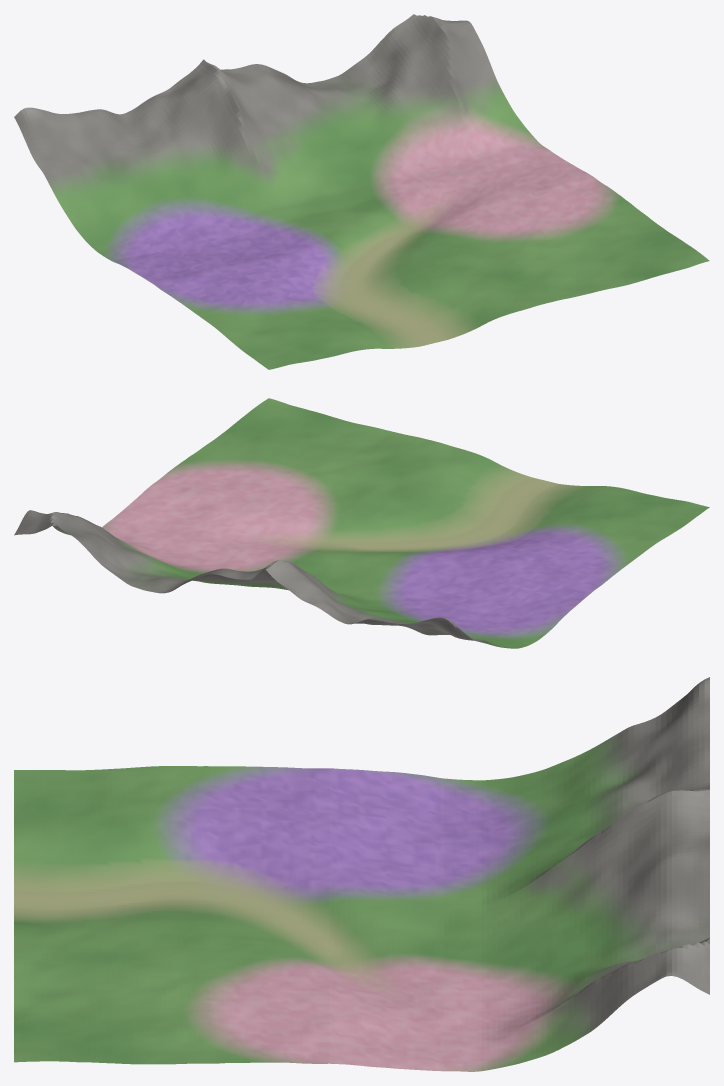
File: terrain.obj
3 renders of one model, top to bottom at view 1: azimuth 30°, elevation 25°; view 2: azimuth 150°, elevation 25°; view 3: azimuth 270°, elevation 25°, orthographic. The views are drawn at different scales.
Parts seen in each view (by area): view 1: Terrain; view 2: Terrain; view 3: Terrain.
Part boxes in pixels (x1=…): Terrain: x1=14, y1=14, x2=709, y2=369; Terrain: x1=14, y1=398, x2=709, y2=648; Terrain: x1=14, y1=677, x2=709, y2=1071.
Size of the model in its own units: 2000 by 397 by 2000.
